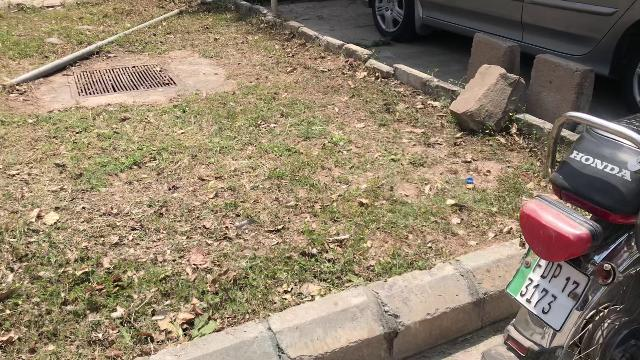plate: (508, 241, 592, 335)
